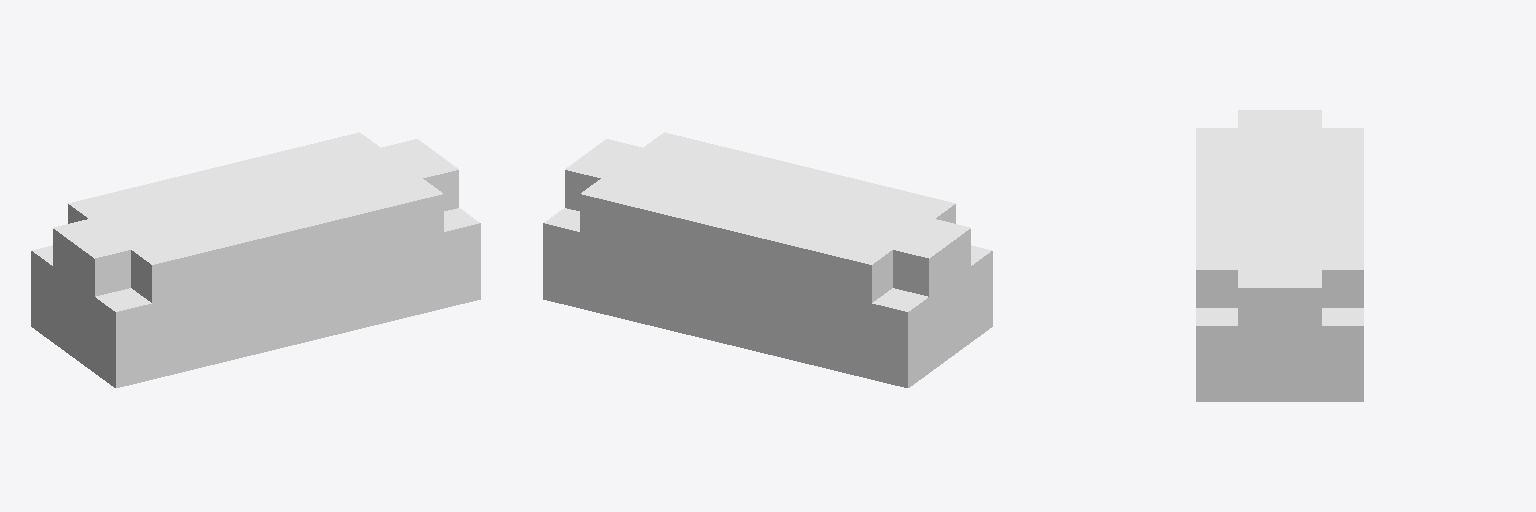
File: BodyTop.obj
The picture shows the model from 3 angles: view 1: azimuth 30°, elevation 25°; view 2: azimuth 150°, elevation 25°; view 3: azimuth 270°, elevation 25°; orthographic projection.
Size of the model in its own units: 10 by 3 by 4.